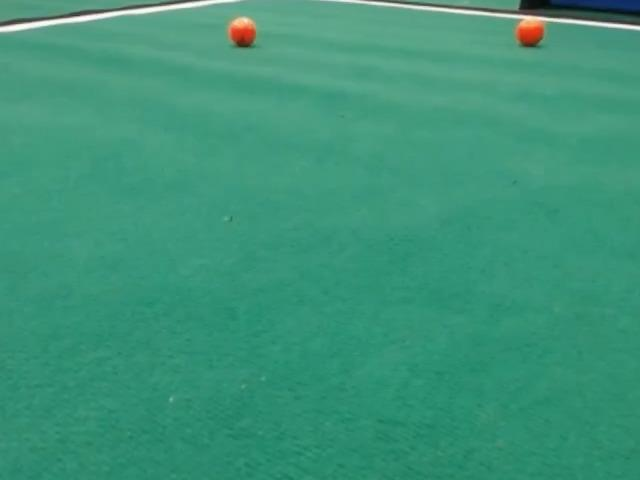Ball: (515, 18, 545, 46), (228, 17, 256, 46)
